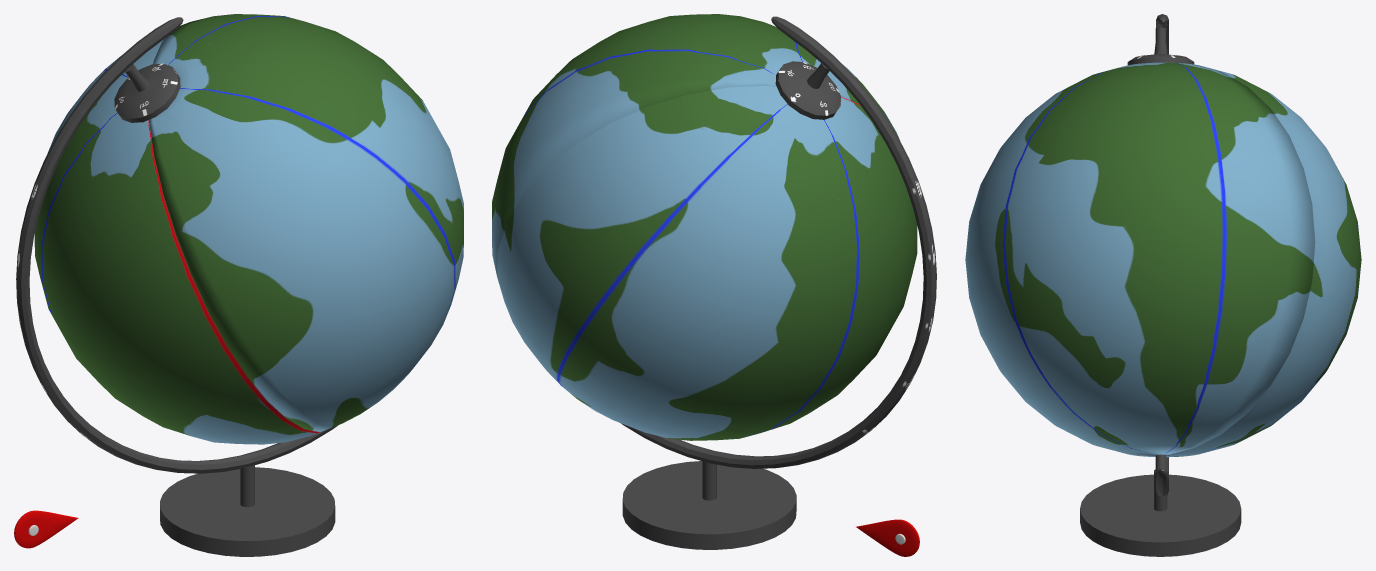
Rendered from earthmake_seperate3.fbx.
The picture shows the model from 3 angles, left to right: view 1: azimuth 30°, elevation 25°; view 2: azimuth 150°, elevation 25°; view 3: azimuth 270°, elevation 25°; orthographic projection. The views are drawn at different scales.
Visible parts, largest first — view 1: Sphere.002, Sphere.003, Cylinder, Cylinder.001, Cylinder.002, Cylinder.003; view 2: Sphere.003, Sphere.002, Cylinder, Cylinder.001, Cylinder.002, Cylinder.003; view 3: Sphere.002, Sphere.003, Cylinder, Cylinder.002, Cylinder.001.
Boxes of the visible parts, x1,y1,x2,y2 form: Sphere.002: (149,14,463,431); Sphere.003: (34,39,319,444); Cylinder: (160,464,335,556); Cylinder.001: (16,17,338,473); Cylinder.002: (114,63,180,122); Cylinder.003: (14,510,78,548); Sphere.003: (497,85,917,440); Sphere.002: (492,14,899,276); Cylinder: (622,461,796,549); Cylinder.001: (621,16,936,468); Cylinder.002: (775,61,840,119); Cylinder.003: (856,519,919,556); Sphere.002: (965,62,1315,455); Sphere.003: (1130,65,1361,457); Cylinder: (1080,469,1241,556); Cylinder.002: (1127,27,1194,485); Cylinder.001: (1156,14,1168,496).
Size of the model in its own units: 47.11 by 55.53 by 42.
6 materials, 3 textured.
